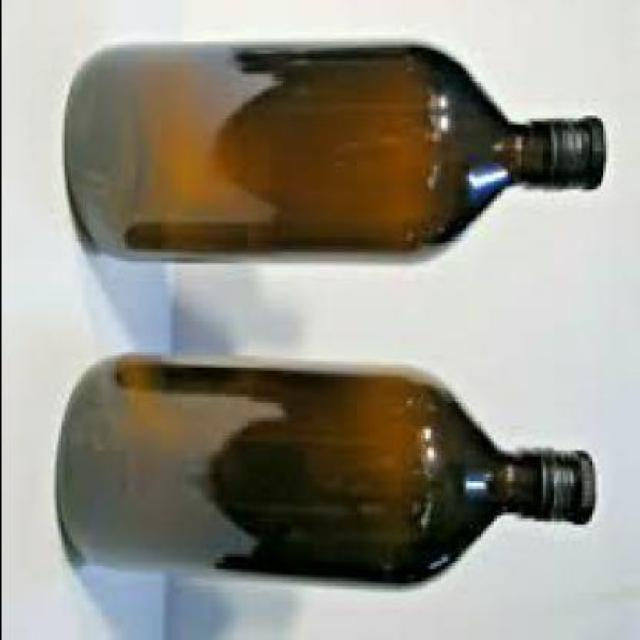GLASS: (61, 350, 593, 584), (66, 42, 605, 260)
METAL: (538, 444, 597, 522), (549, 116, 608, 186)
